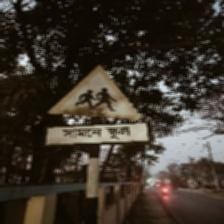School-in-front: (43, 64, 147, 150)
